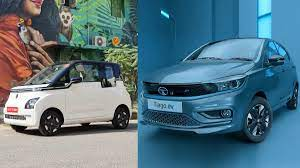Tiago: (140, 33, 299, 147)
